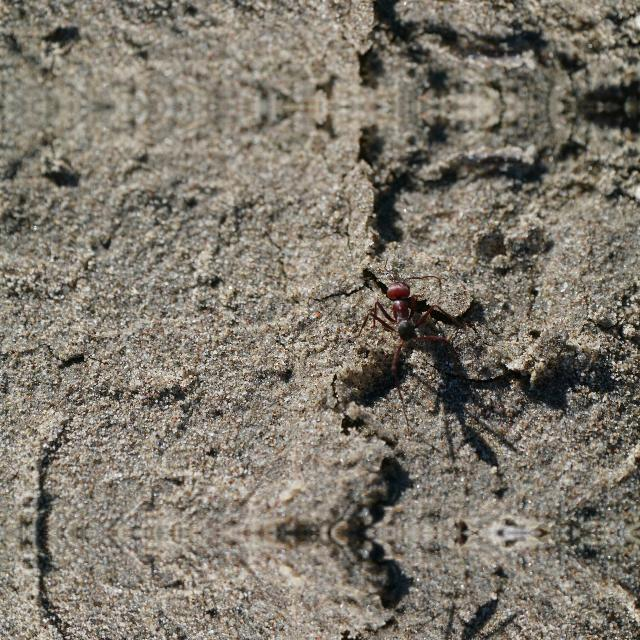Cataglyphis: (359, 264, 455, 354)
